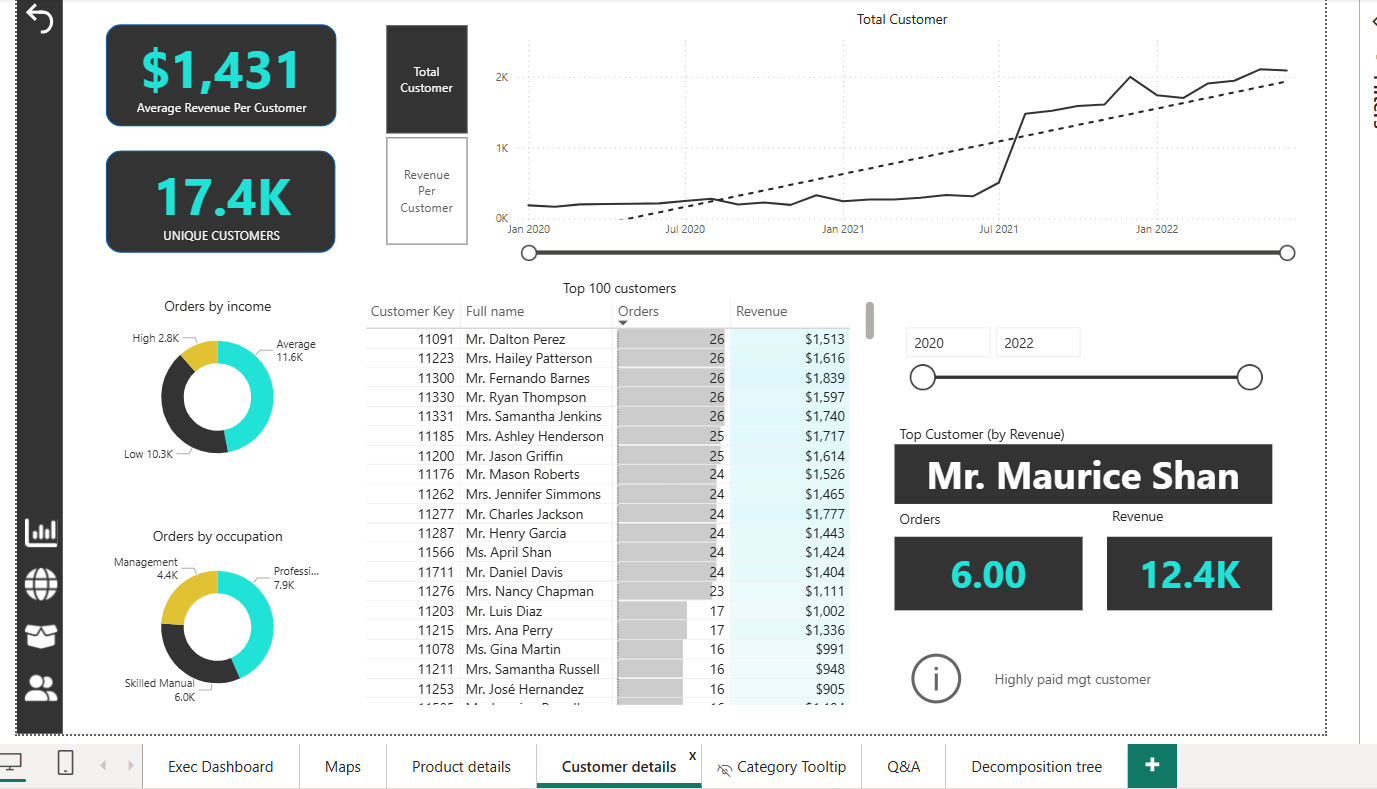

What the dashboard file says about the page in this screenshot:
{"tool":"powerbi","page":{"name":"Customer details","canvas":[1280,720],"ordinal":3},"visuals":[{"type":"shape","box":[0,0,45,719.8],"z":0},{"type":"actionButton","box":[3.1,603.8,39.8,41.1],"z":0,"group":"g1"},{"type":"shape","box":[87,149.4,224.7,100],"z":1000},{"type":"actionButton","box":[3.1,502.6,39.8,41.1],"z":1000,"group":"g1"},{"type":"shape","box":[87,26,226,100],"z":2000},{"type":"actionButton","box":[3.1,553.2,39.8,41.1],"z":2000,"group":"g1"},{"type":"card","fields":{"Values":["Measure Table.Total Customer"]},"box":[75.3,124.7,249.4,149.4],"z":3000},{"type":"actionButton","box":[3.1,654.4,39.8,41.1],"z":3000,"group":"g1"},{"type":"card","fields":{"Values":["Measure Table.Average Revenue Per Customer"]},"box":[75.3,0,249.4,149.4],"z":4000},{"type":"lineChart","fields":{"Y":["Measure Table.Total Customer"],"Category":["Calendar Lookup.Date Hierarchy.Start of Year","Calendar Lookup.Date Hierarchy.Start of Month","Calendar Lookup.Date Hierarchy.Start of Week","Calendar Lookup.Date Hierarchy.Date"]},"box":[464,11.2,804.8,248.8],"z":5000},{"type":"donutChart","title":"Orders by income","fields":{"Y":["Measure Table.Total Orders"],"Category":["Customer Lookup.Income Level"]},"box":[87.1,292.3,218.9,179.1],"z":6000},{"type":"donutChart","title":"Orders by occupation","fields":{"Y":["Measure Table.Total Orders"],"Category":["Customer Lookup.Occupation"]},"box":[87.1,517.5,218.9,179.1],"z":7000},{"type":"tableEx","title":"Top 100 customers","fields":{"Values":["Customer Lookup.CustomerKey","Customer Lookup.Full name","Measure Table.Total Orders","Measure Table.Total Revenue"]},"box":[334.6,273.7,508.8,422.9],"z":8000},{"type":"card","title":"Top customer by revenue","fields":{"Values":["Customer Lookup.Full name (customer detail)"]},"box":[858.3,436.9,369.5,58.5],"z":9000},{"type":"card","title":"Top customer by revenue","fields":{"Values":["Measure Table.Total Order (Customer detail)"]},"box":[858.3,526.4,184.1,72.1],"z":10000},{"type":"card","title":"Top customer by revenue","fields":{"Values":["Measure Table.Total Revenue (Customer detail)"]},"box":[1066.1,526.4,161.7,72.1],"z":11000},{"type":"textbox","box":[858.3,411.8,184.1,33.6],"z":12000},{"type":"textbox","box":[858.3,495.3,184.1,33.6],"z":13000},{"type":"textbox","box":[1066.1,492.6,161.7,33.6],"z":14000},{"type":"slicer","fields":{"Values":["Calendar Lookup.Year"]},"box":[857.1,312.2,369.5,95.8],"z":15000},{"type":"actionButton","box":[868.3,634.4,245.1,62.2],"z":16000},{"type":"actionButton","box":[2.5,0,42.3,39.8],"z":17000},{"type":"group","id":"g1","title":"Navigation buttons","box":[3.1,502.6,39.8,192.8],"z":18000},{"type":"slicer","fields":{"Values":["Customer Metric Selection.Customer Metric Selection"]},"box":[334.6,19.9,129.4,228.9],"z":19000}]}

Visuals, with their boxes on the page's 1280x720 design canvas (x1, y1, x2, y2). These are canvas units, not pixel positions in the 1377x789 screenshot, which may show the page scaled, cropped or inside an application window:
shape: pyautogui.locateOnScreen(0, 0, 45, 720)
actionButton: pyautogui.locateOnScreen(3, 604, 43, 645)
shape: pyautogui.locateOnScreen(87, 149, 312, 249)
actionButton: pyautogui.locateOnScreen(3, 503, 43, 544)
shape: pyautogui.locateOnScreen(87, 26, 313, 126)
actionButton: pyautogui.locateOnScreen(3, 553, 43, 594)
card - Measure Table.Total Customer: pyautogui.locateOnScreen(75, 125, 325, 274)
actionButton: pyautogui.locateOnScreen(3, 654, 43, 696)
card - Measure Table.Average Revenue Per Customer: pyautogui.locateOnScreen(75, 0, 325, 149)
lineChart - Measure Table.Total Customer x Calendar Lookup.Date Hierarchy.Start of Year: pyautogui.locateOnScreen(464, 11, 1269, 260)
"Orders by income" donutChart: pyautogui.locateOnScreen(87, 292, 306, 471)
"Orders by occupation" donutChart: pyautogui.locateOnScreen(87, 518, 306, 697)
"Top 100 customers" tableEx: pyautogui.locateOnScreen(335, 274, 843, 697)
"Top customer by revenue" card: pyautogui.locateOnScreen(858, 437, 1228, 495)
"Top customer by revenue" card: pyautogui.locateOnScreen(858, 526, 1042, 598)
"Top customer by revenue" card: pyautogui.locateOnScreen(1066, 526, 1228, 598)
textbox: pyautogui.locateOnScreen(858, 412, 1042, 445)
textbox: pyautogui.locateOnScreen(858, 495, 1042, 529)
textbox: pyautogui.locateOnScreen(1066, 493, 1228, 526)
slicer - Calendar Lookup.Year: pyautogui.locateOnScreen(857, 312, 1227, 408)
actionButton: pyautogui.locateOnScreen(868, 634, 1113, 697)
actionButton: pyautogui.locateOnScreen(2, 0, 45, 40)
"Navigation buttons" group: pyautogui.locateOnScreen(3, 503, 43, 695)
slicer - Customer Metric Selection.Customer Metric Selection: pyautogui.locateOnScreen(335, 20, 464, 249)
